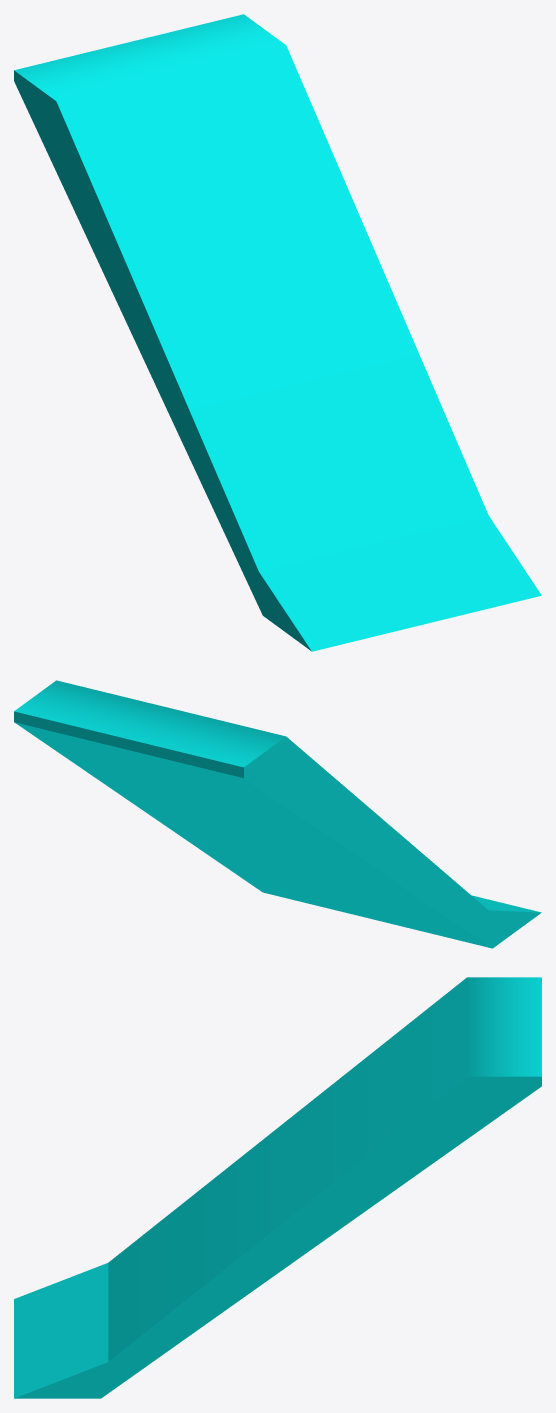
Rendered from SM_Prop_Rug_Stairs_01_Collision.fbx.
The picture shows the model from 3 angles, top to bottom: view 1: azimuth 30°, elevation 25°; view 2: azimuth 150°, elevation 25°; view 3: azimuth 270°, elevation 25°; orthographic projection. The views are drawn at different scales.
Parts seen in each view (by area): view 1: SM_Prop_Rug_Stairs_01_Collision; view 2: SM_Prop_Rug_Stairs_01_Collision; view 3: SM_Prop_Rug_Stairs_01_Collision.
Boxes of the visible parts, x1,y1,x2,y2 form: SM_Prop_Rug_Stairs_01_Collision: (14,14,541,651); SM_Prop_Rug_Stairs_01_Collision: (14,680,541,948); SM_Prop_Rug_Stairs_01_Collision: (14,977,541,1398).
Size of the model in its own units: 101 by 152 by 226.
